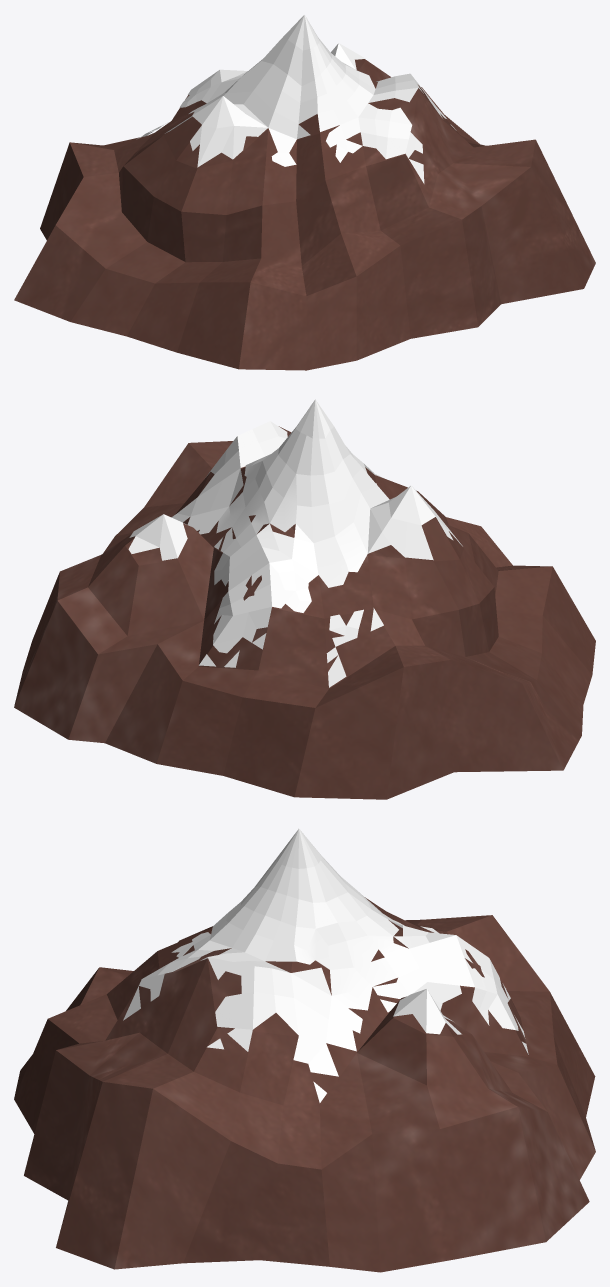
File: Island_MT.fbx
3 views of the same model, one above another, from view 1: azimuth 30°, elevation 25°; view 2: azimuth 150°, elevation 25°; view 3: azimuth 270°, elevation 25° (orthographic). The views are drawn at different scales.
Parts seen in each view (by area): view 1: Island_MT; view 2: Island_MT; view 3: Island_MT.
Part boxes in pixels (left/top/right/bottom): Island_MT: left=14, top=15, right=595, bottom=370; Island_MT: left=14, top=399, right=595, bottom=799; Island_MT: left=14, top=829, right=595, bottom=1272.
Bounding box in the file's own units: 3859 × 1904 × 3252.
